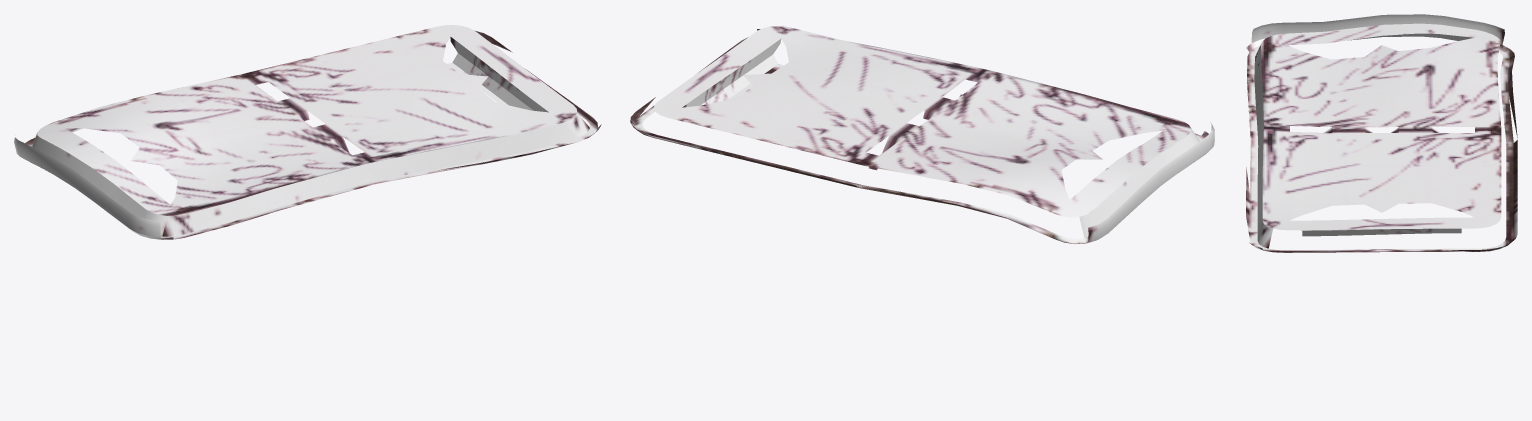
File: TresselTable.fbx
The picture shows the model from 3 angles, left to right: view 1: azimuth 30°, elevation 25°; view 2: azimuth 150°, elevation 25°; view 3: azimuth 270°, elevation 25°; orthographic projection. The views are drawn at different scales.
Parts seen in each view (by area): view 1: TresselTable; view 2: TresselTable; view 3: TresselTable.
Boxes of the visible parts, <box> form: TresselTable: <box>14,25,601,239</box>; TresselTable: <box>630,26,1214,244</box>; TresselTable: <box>1246,14,1517,252</box>.
Bounding box in the file's own units: 189 × 78.3 × 99.98.
1 material, 1 textured.
